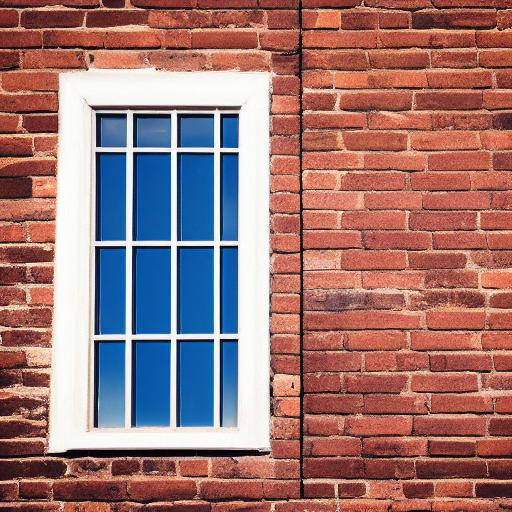Window: (47, 64, 274, 460)
